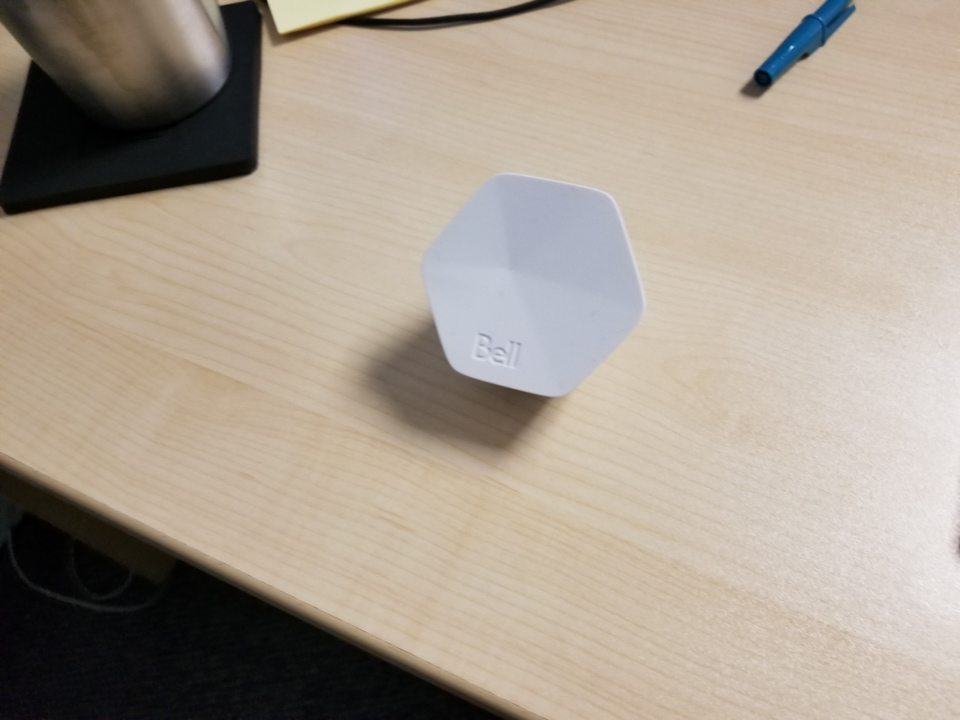pod: (415, 167, 655, 410)
